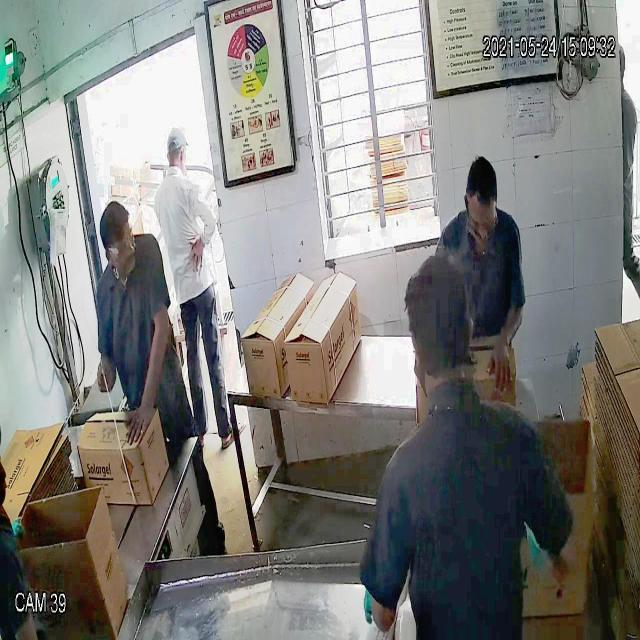glasses: (100, 221, 144, 258)
